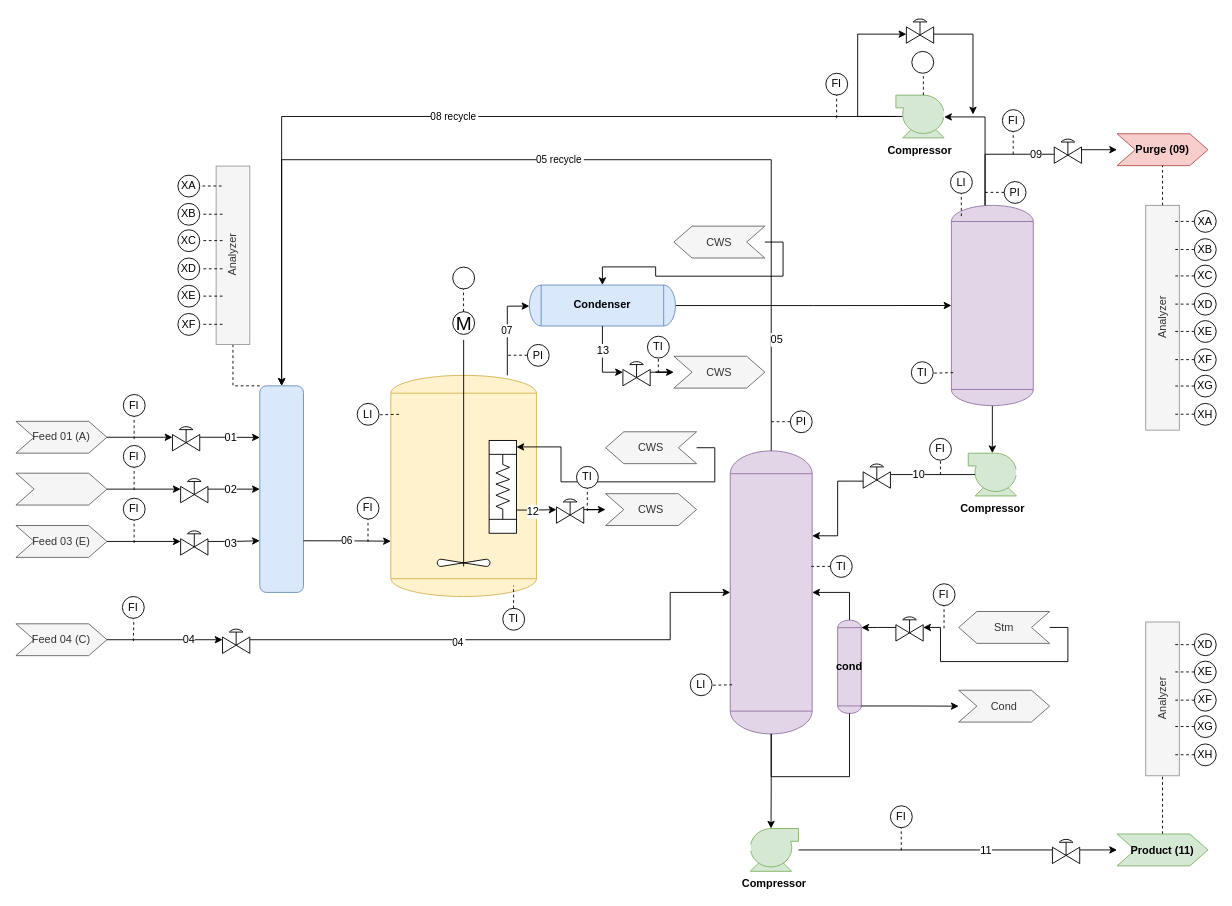
Some shapes in this 1232 by 906 pixel diagram are drawn without their labels. Each missing label, with the box of its shape:
Feed 02 (D): (15, 472, 107, 505)
Feed Mixer: (259, 385, 303, 592)
JI: (911, 51, 934, 73)
Reactor: (390, 374, 536, 597)
SC: (452, 266, 475, 289)
Separator Vap/Liq: (950, 204, 1033, 406)
Stripper: (729, 450, 812, 734)
